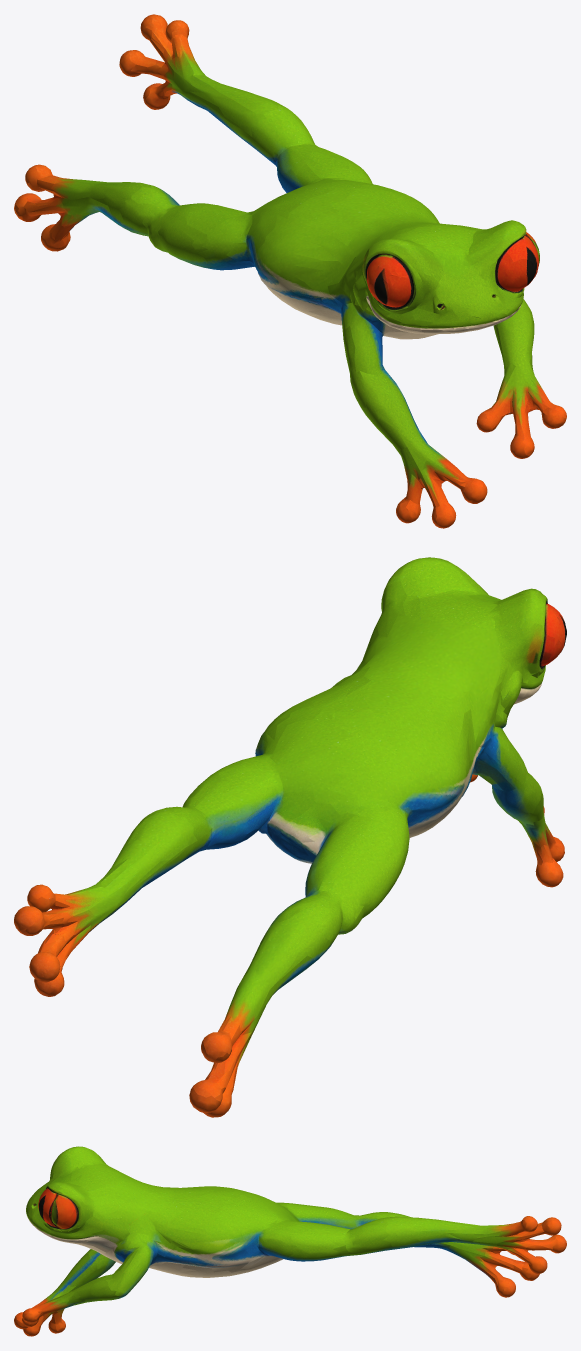
The model's file is frog-leap.glb.
3 renders of one model, top to bottom at view 1: azimuth 30°, elevation 25°; view 2: azimuth 150°, elevation 25°; view 3: azimuth 270°, elevation 25°, orthographic. The views are drawn at different scales.
Bounding box in the file's own units: 0.5895 × 0.7082 × 1.9.
1 material, 1 textured.
